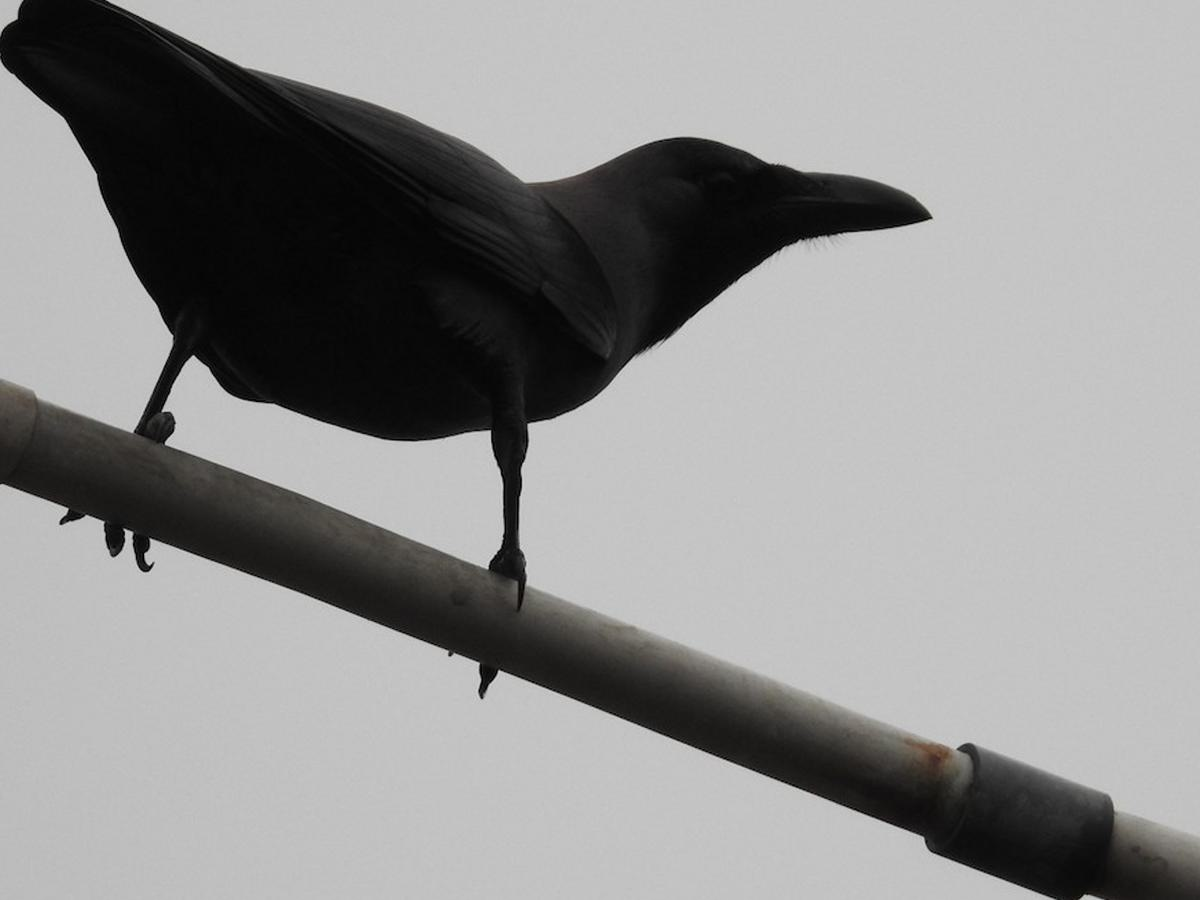crow: (1, 1, 932, 692)
